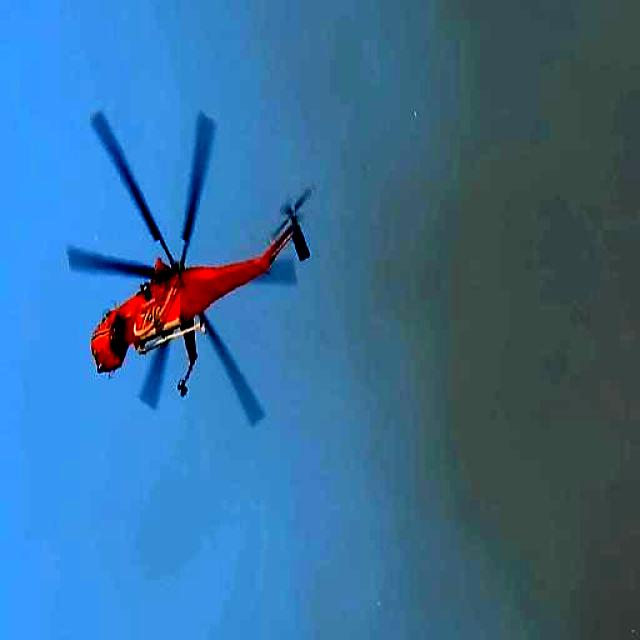drone: (48, 79, 335, 472)
